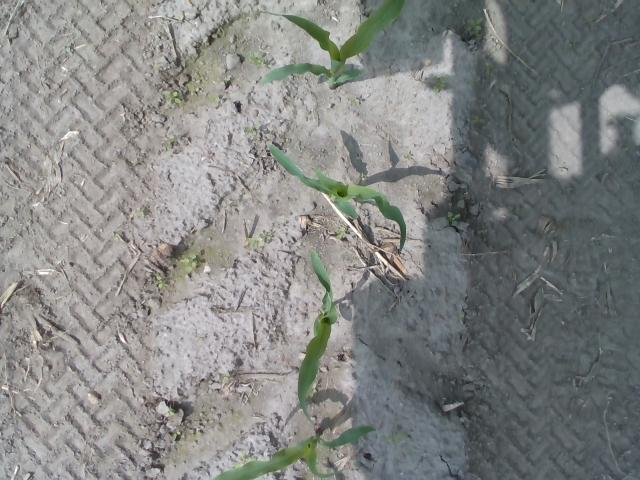Maize: (265, 139, 408, 252), (259, 0, 406, 90), (211, 426, 377, 480), (296, 248, 340, 424)
Weeds: (462, 17, 484, 40), (248, 230, 272, 250), (235, 450, 255, 468), (180, 255, 198, 272), (432, 77, 448, 94), (164, 90, 181, 105), (247, 51, 264, 65), (480, 60, 496, 74), (468, 114, 486, 126), (456, 191, 466, 209), (446, 211, 461, 222), (390, 433, 402, 444), (208, 95, 220, 106), (156, 276, 167, 288), (163, 135, 176, 145), (172, 431, 182, 441), (245, 127, 257, 134), (168, 406, 176, 416), (336, 231, 346, 239)
